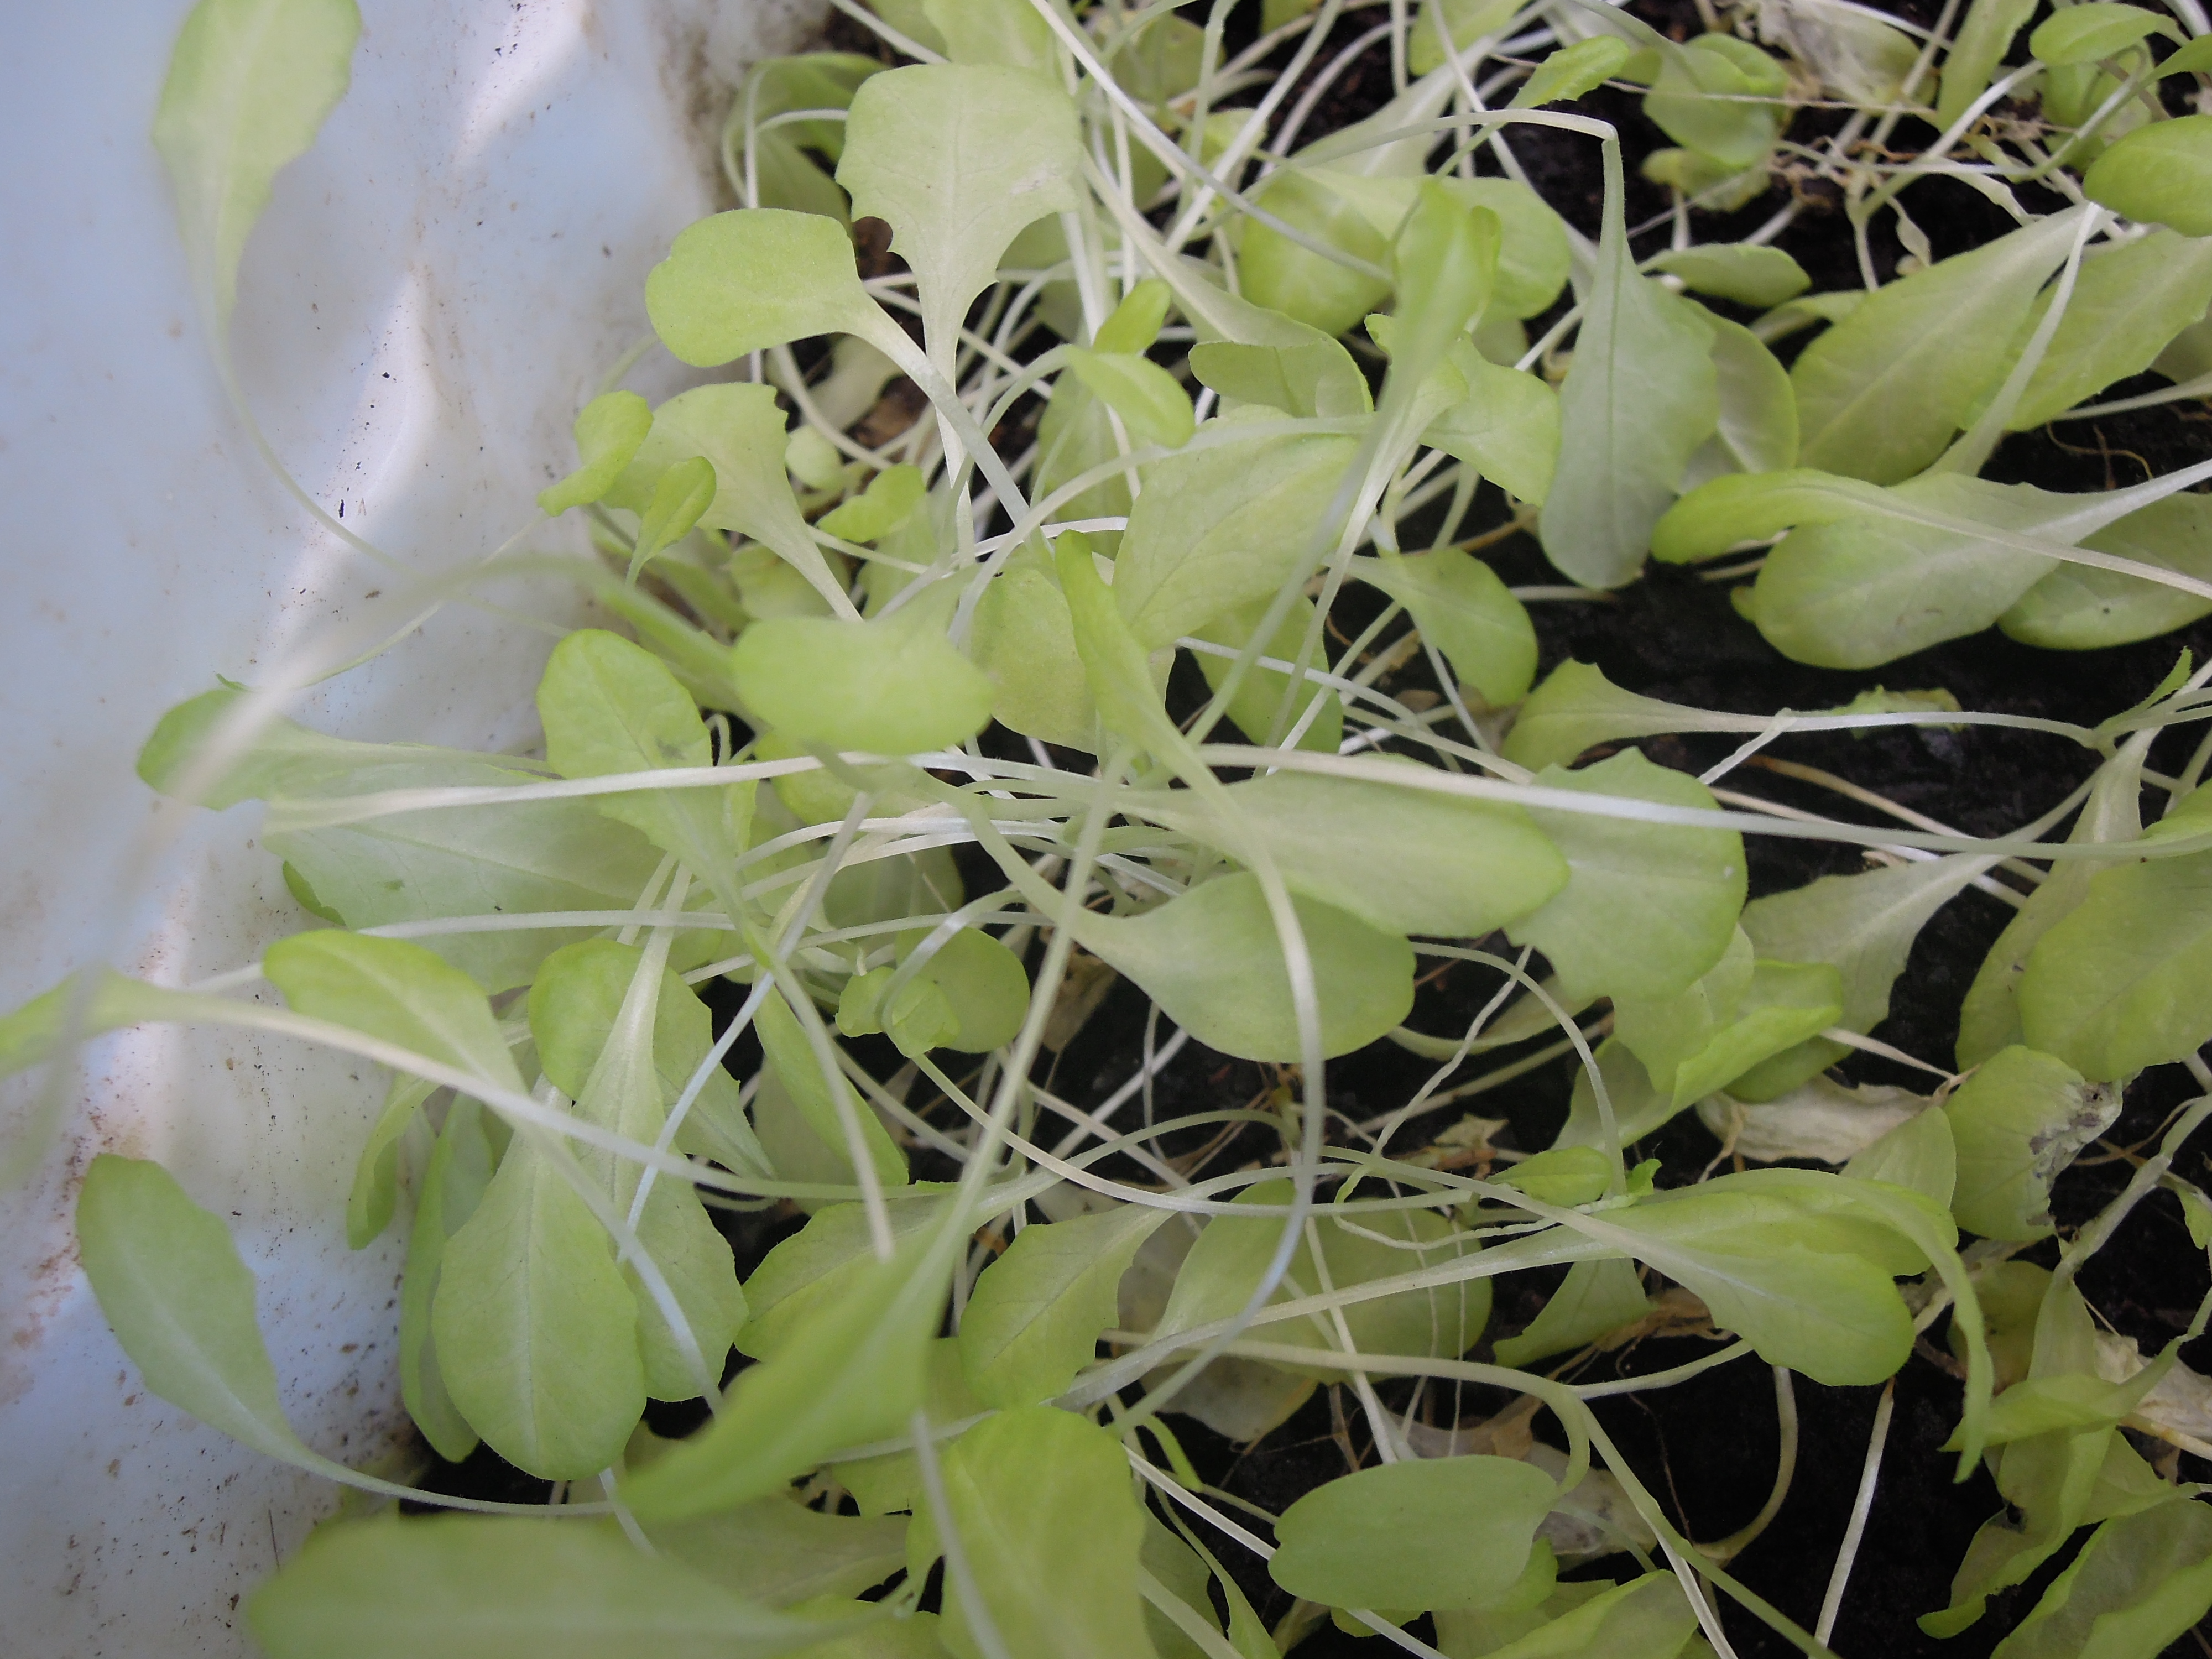weeek6: (26, 75, 1834, 1244)
